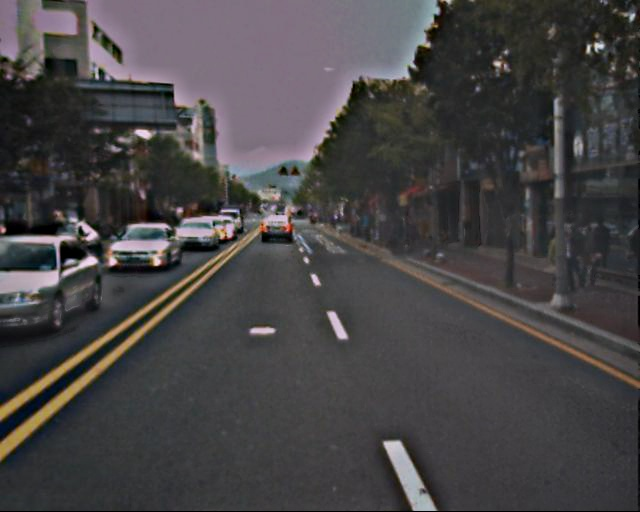person: (556, 218, 589, 290), (572, 222, 601, 289), (587, 215, 613, 267)
